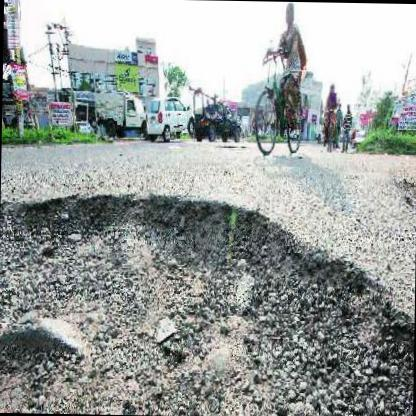pothole: (0, 187, 415, 416)
